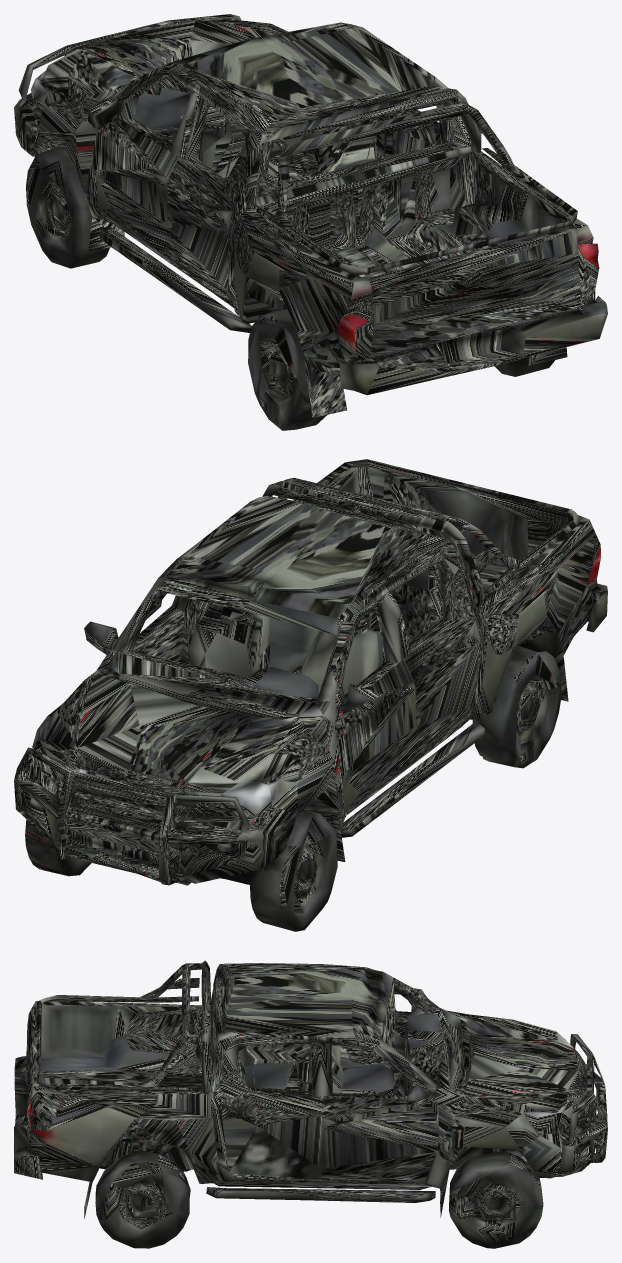
Rendered from viatura-administrativa_lod1.glb.
3 renders of one model, top to bottom at view 1: azimuth 30°, elevation 25°; view 2: azimuth 150°, elevation 25°; view 3: azimuth 270°, elevation 25°, orthographic. The views are drawn at different scales.
Visible parts, largest first — view 1: tripo_node_8c789ff9-bd84-41db-bca9-ae5d298ce5ce; view 2: tripo_node_8c789ff9-bd84-41db-bca9-ae5d298ce5ce; view 3: tripo_node_8c789ff9-bd84-41db-bca9-ae5d298ce5ce.
Part boxes in pixels (x1,y1,x2,y2): tripo_node_8c789ff9-bd84-41db-bca9-ae5d298ce5ce: (14,14,607,430); tripo_node_8c789ff9-bd84-41db-bca9-ae5d298ce5ce: (14,459,607,931); tripo_node_8c789ff9-bd84-41db-bca9-ae5d298ce5ce: (14,960,607,1248).
Size of the model in its own units: 2.4 by 2.05 by 5.28.
1 material, 1 textured.
